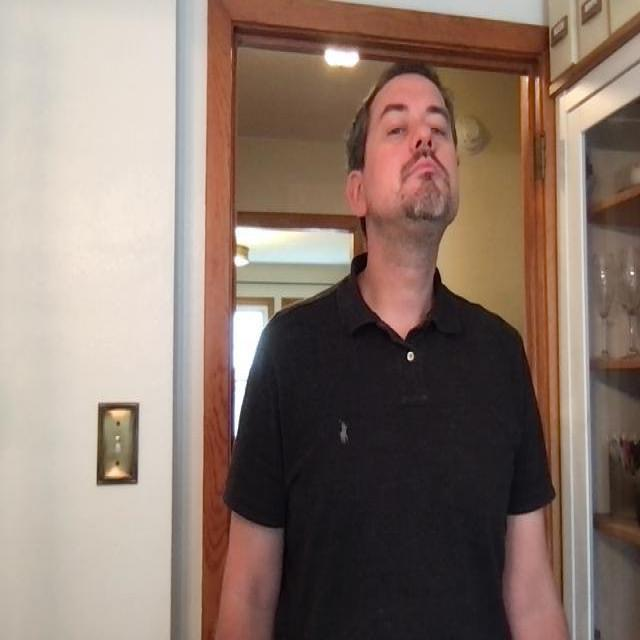face: (347, 58, 461, 230)
